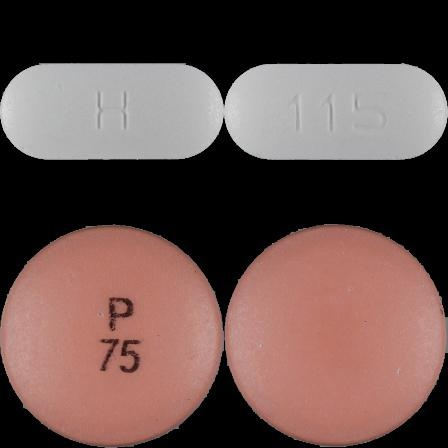42254-035: (0, 0, 224, 224)
